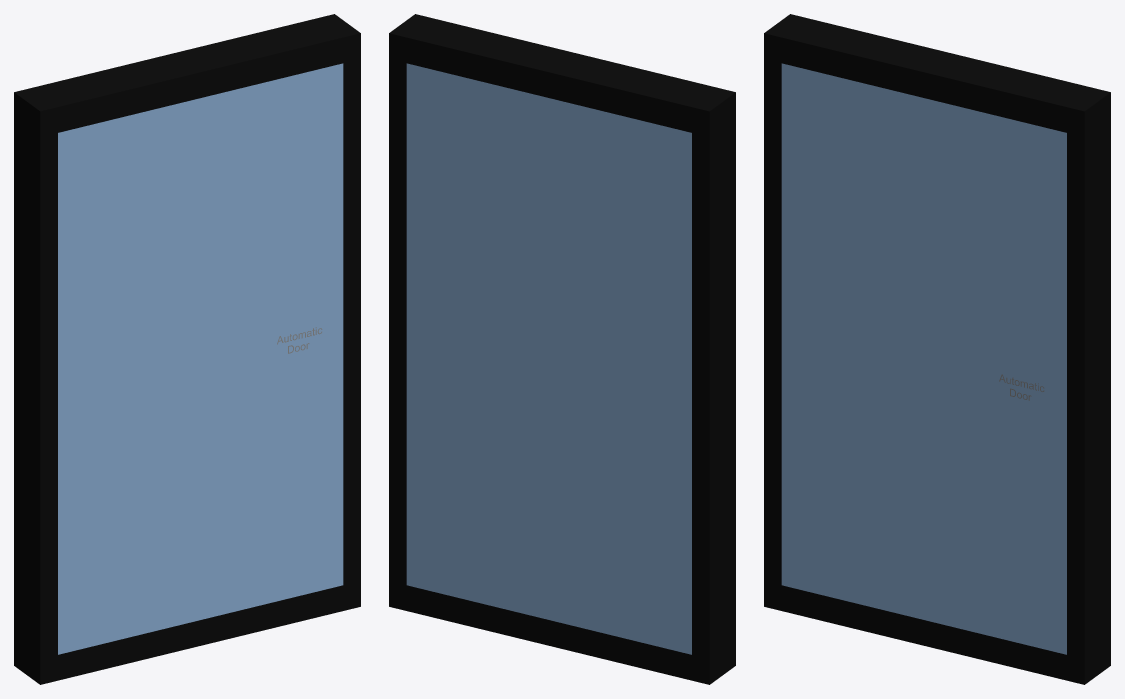
Rendered from Leftside.FBX.
The picture shows the model from 3 angles, left to right: view 1: azimuth 30°, elevation 25°; view 2: azimuth 150°, elevation 25°; view 3: azimuth 330°, elevation 25°; orthographic projection.
Visible parts, largest first — view 1: Box002; view 2: Box002; view 3: Box002.
Boxes of the visible parts, <box> form: Box002: <box>14,14,360,684</box>; Box002: <box>389,14,735,684</box>; Box002: <box>764,14,1110,684</box>.
Size of the model in its own units: 77.18 by 132 by 11.28.
